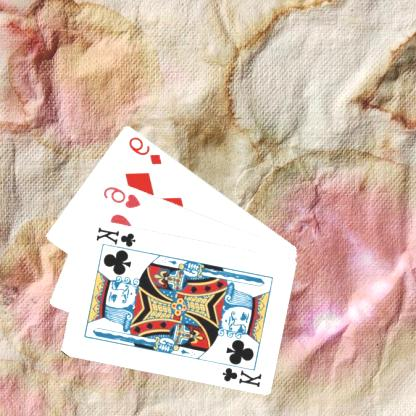6H: (102, 183, 144, 210)
9D: (127, 133, 166, 166)
KC: (218, 359, 265, 388), (95, 224, 141, 253)
